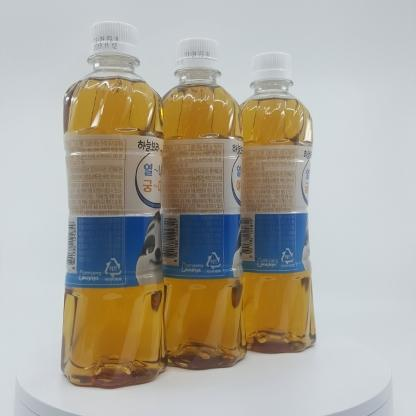------500ML: (60, 21, 168, 387), (155, 37, 247, 369), (234, 52, 316, 353)
